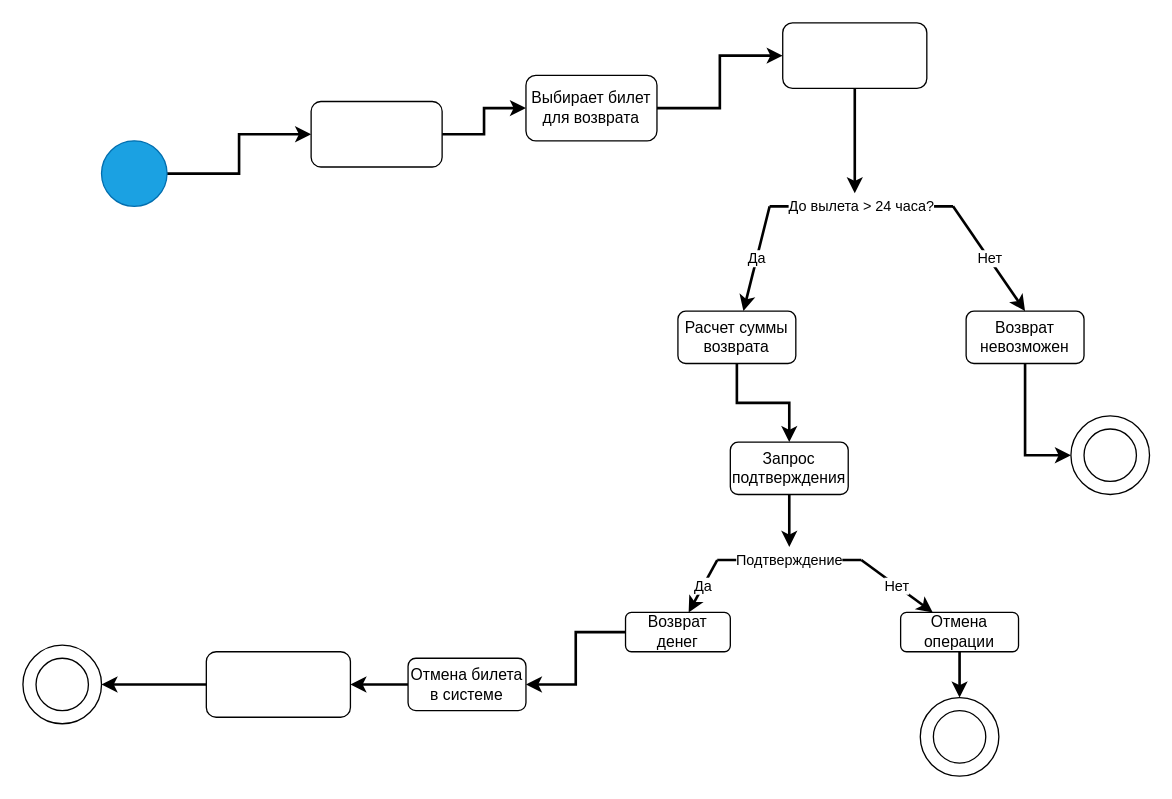
Image size: 1172x799. Some labels were removed from this diagram. The shapes that lost their labels are listed below. From the top down, each one's centre as x and y in pixels, then its label:
point (854, 55): Система проверяет время до вылета
point (376, 133): Пользователь заходит в историю заказов
point (277, 683): email пользователю об отмене
